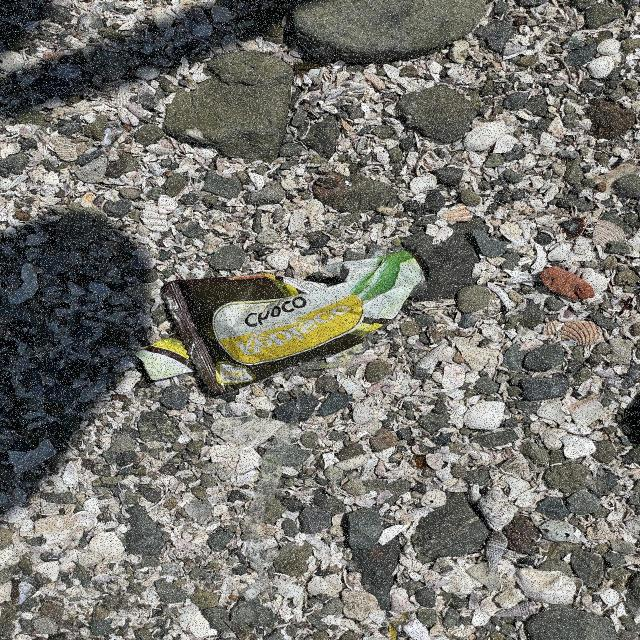plastic_waste: (162, 250, 430, 398)
